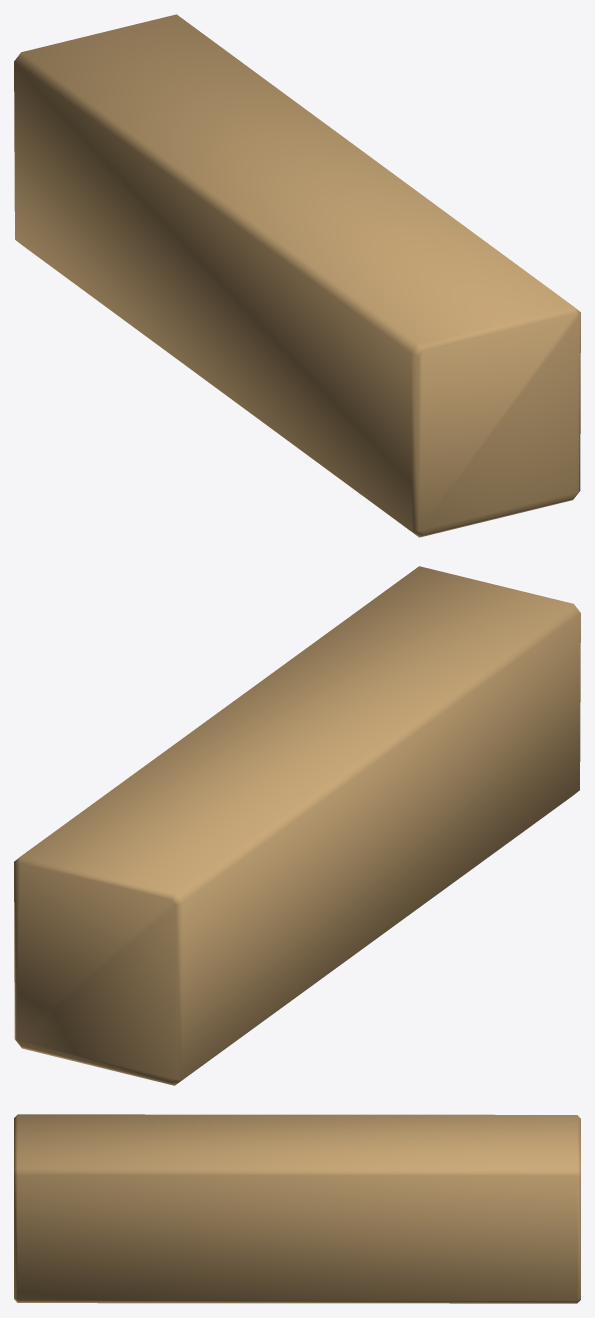
File: BrokenRuin_Big_00.fbx
3 renders of one model, top to bottom at view 1: azimuth 30°, elevation 25°; view 2: azimuth 150°, elevation 25°; view 3: azimuth 270°, elevation 25°, orthographic. The views are drawn at different scales.
Visible parts, largest first — view 1: BigChunk_00; view 2: BigChunk_00; view 3: BigChunk_00.
Boxes of the visible parts, x1,y1,x2,y2 form: BigChunk_00: (14,14,580,537); BigChunk_00: (14,566,580,1085); BigChunk_00: (14,1114,580,1303).
Bounding box in the file's own units: 195 × 211 × 798.
